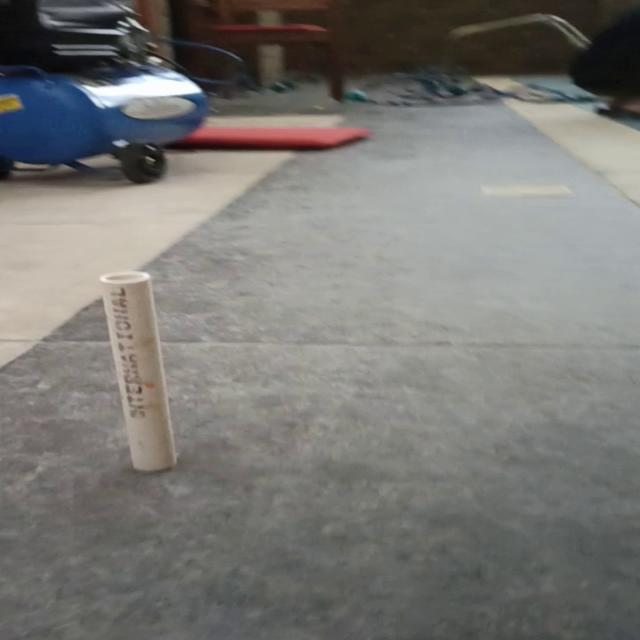Cube: (96, 270, 179, 472)
